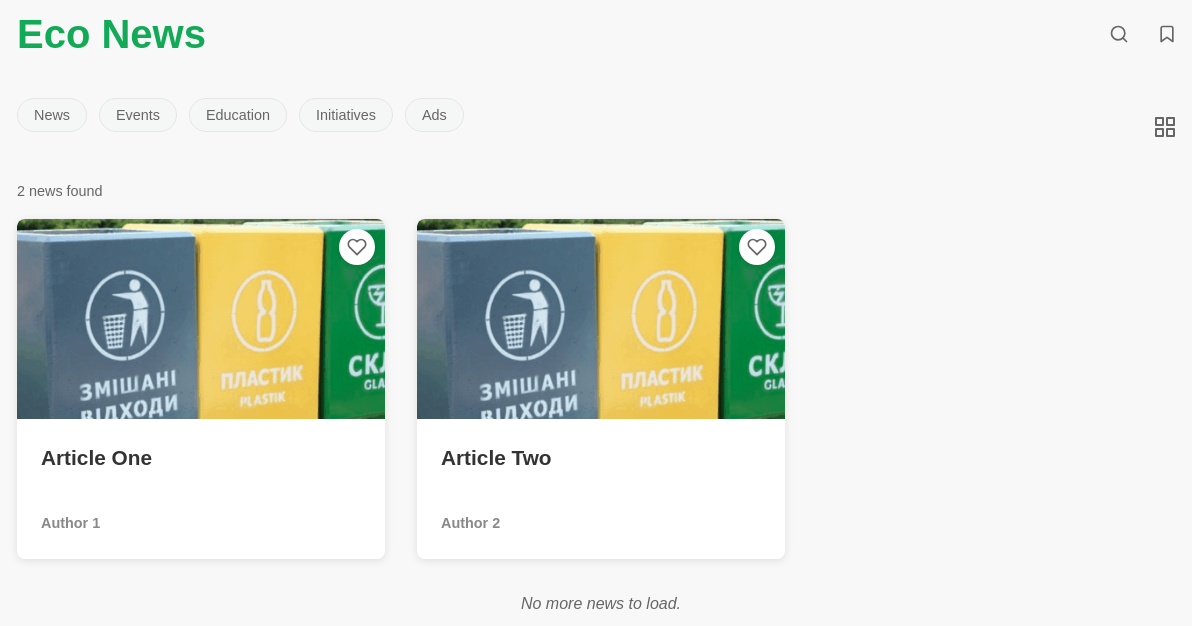
Test: NewsPage › shows search input when search button is clicked
This screenshot has width=1192, height=626.
expect the heading "Article One" is shown: met, box [41, 446, 152, 469]
What coordinates should you click on to do the following:
click the button named "search news"
I would click on:
 (1119, 34)
Its box is [1101, 16, 1137, 52].
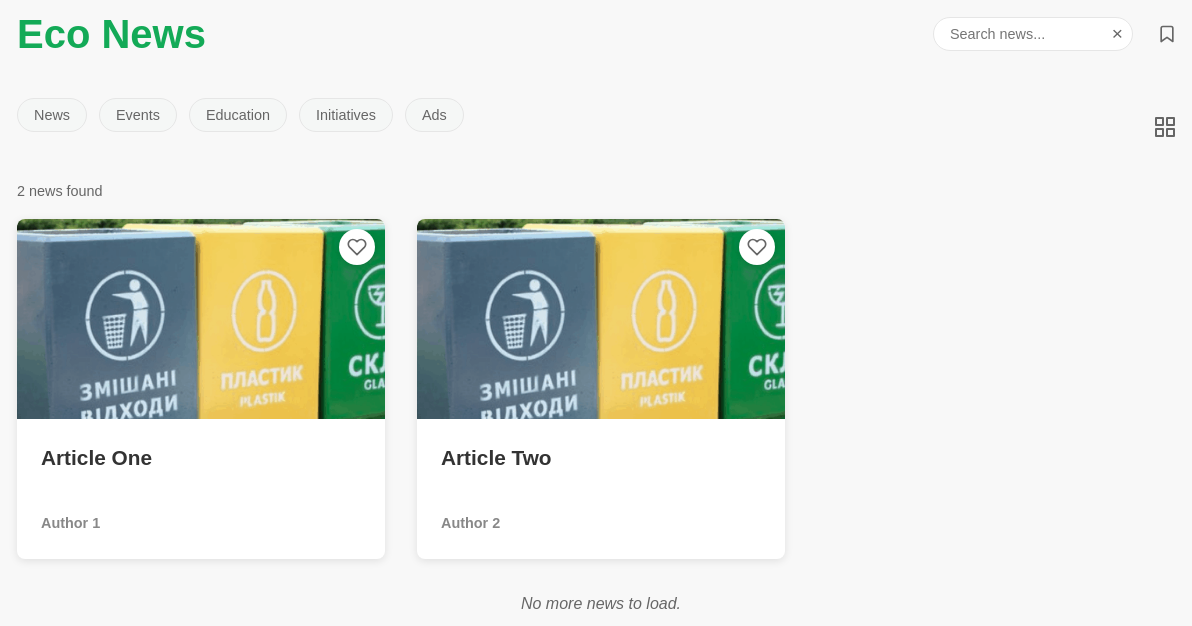
expect the field with placeholder "Search news..." is shown: met, box [933, 17, 1133, 51]
